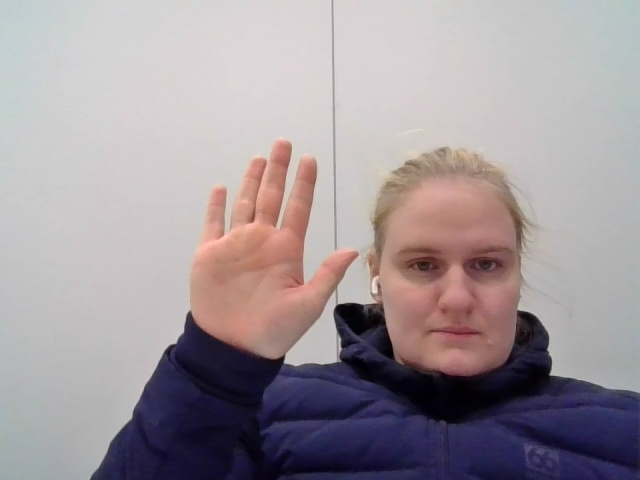nada: (174, 120, 363, 393)
